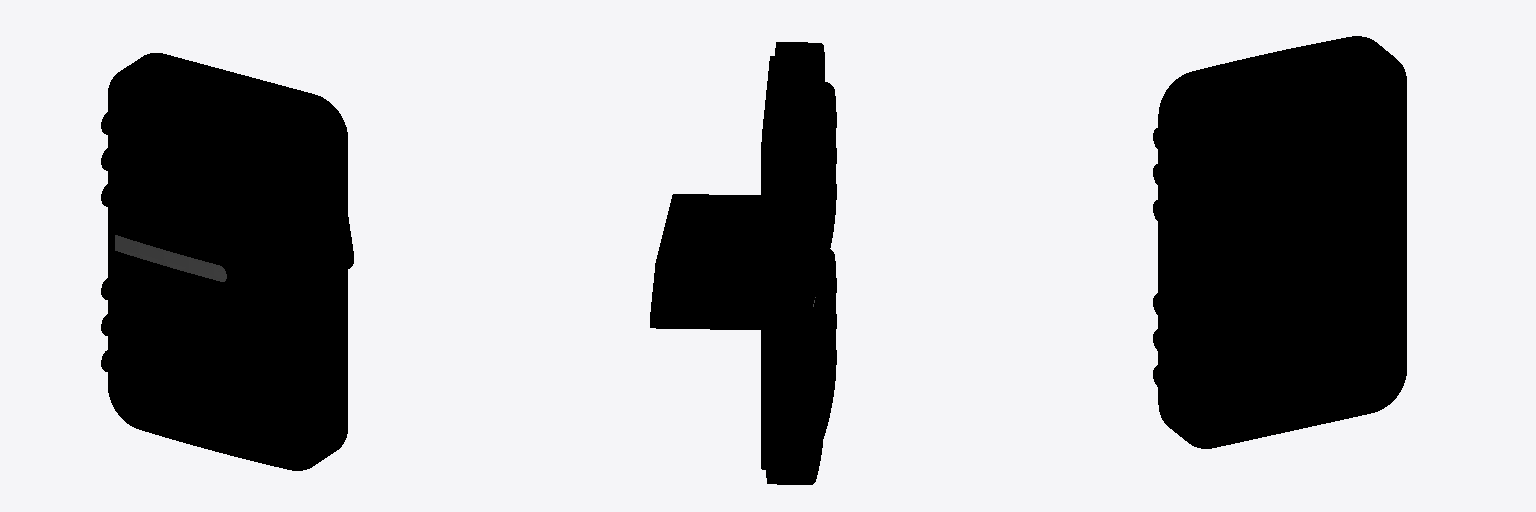
The model's file is ase022_E_key_3.obj.
3 views of the same model, side by side, from view 1: azimuth 30°, elevation 25°; view 2: azimuth 150°, elevation 25°; view 3: azimuth 270°, elevation 25° (orthographic).
Visible parts, largest first — view 1: object 1; view 2: object 1; view 3: object 1.
Part boxes in pixels (x1,y1,x2,y2): object 1: (101,53,353,470); object 1: (650,42,836,484); object 1: (1153,36,1406,448).
Size of the model in its own units: 6.11 by 10 by 6.4.